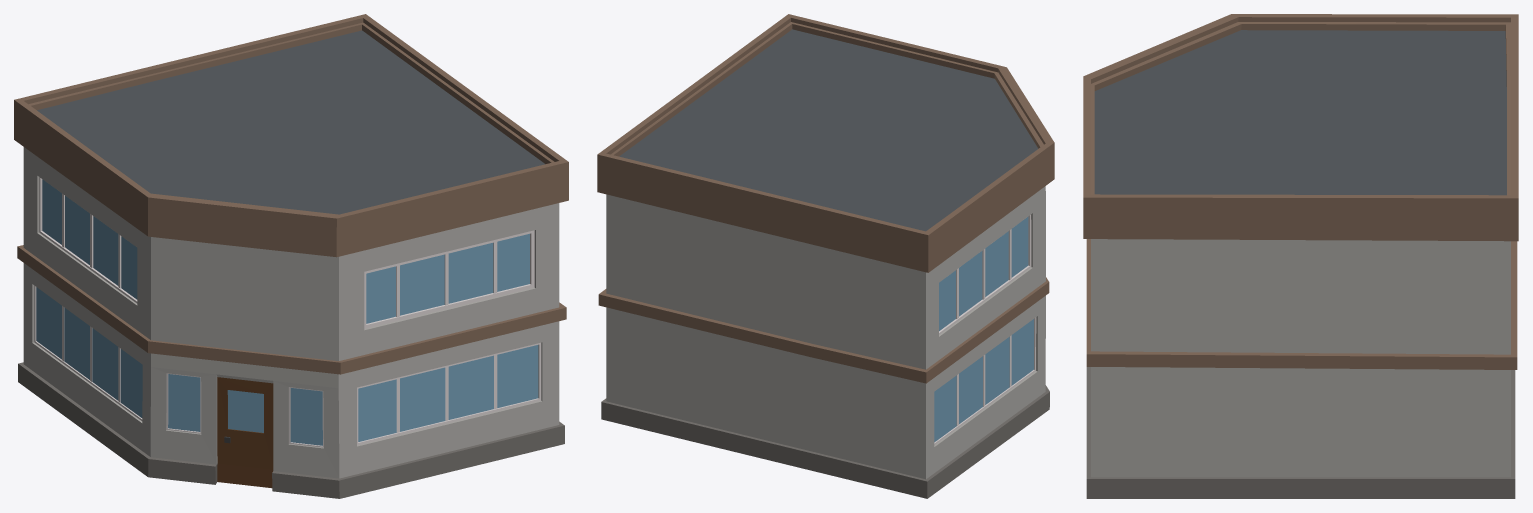
The model's file is House_20.fbx.
The picture shows the model from 3 angles, left to right: view 1: azimuth 30°, elevation 25°; view 2: azimuth 150°, elevation 25°; view 3: azimuth 270°, elevation 25°; orthographic projection. The views are drawn at different scales.
Visible parts, largest first — view 1: House_20; view 2: House_20; view 3: House_20.
Boxes of the visible parts, x1,y1,x2,y2 form: House_20: (14, 14, 568, 498); House_20: (597, 14, 1054, 498); House_20: (1083, 14, 1518, 498).
Bounding box in the file's own units: 14.11 × 10.83 × 14.11.
